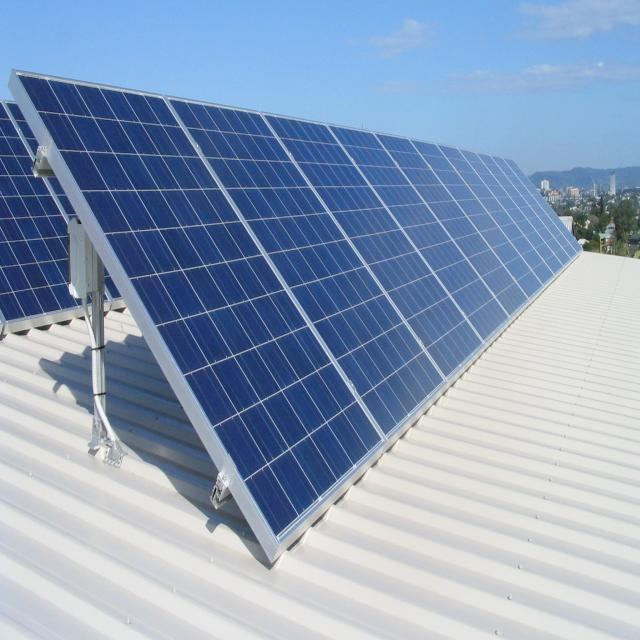clean-solar-panel: (10, 71, 580, 560)
